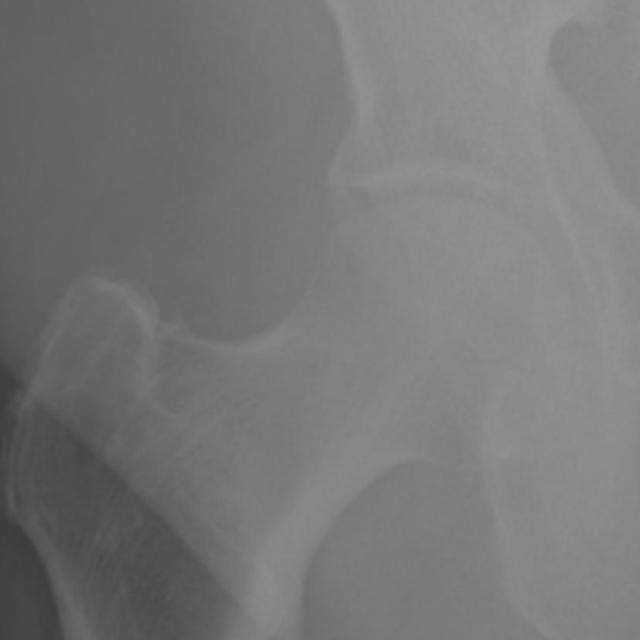Fitted_femural_head: (285, 198, 432, 285)
